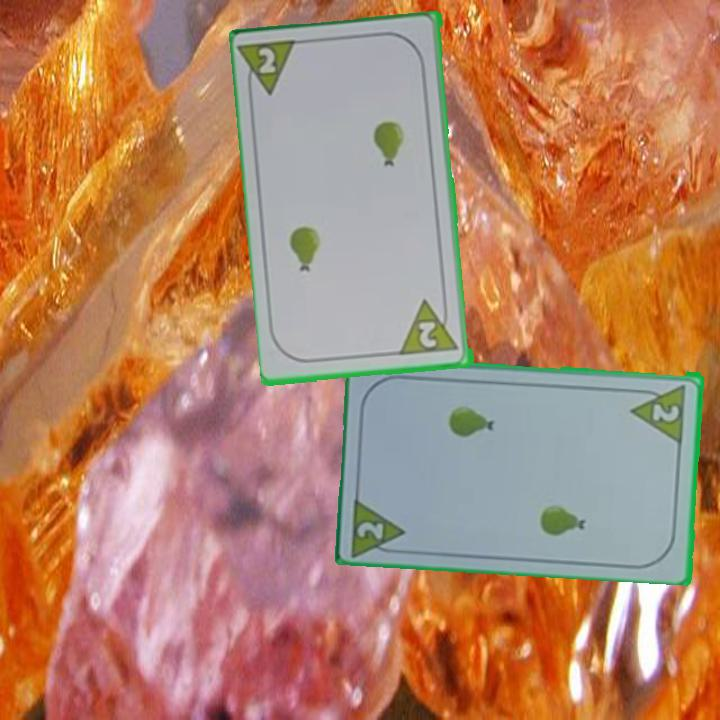2p: (238, 36, 303, 102), (399, 295, 463, 359), (649, 398, 683, 425), (354, 517, 387, 542)
